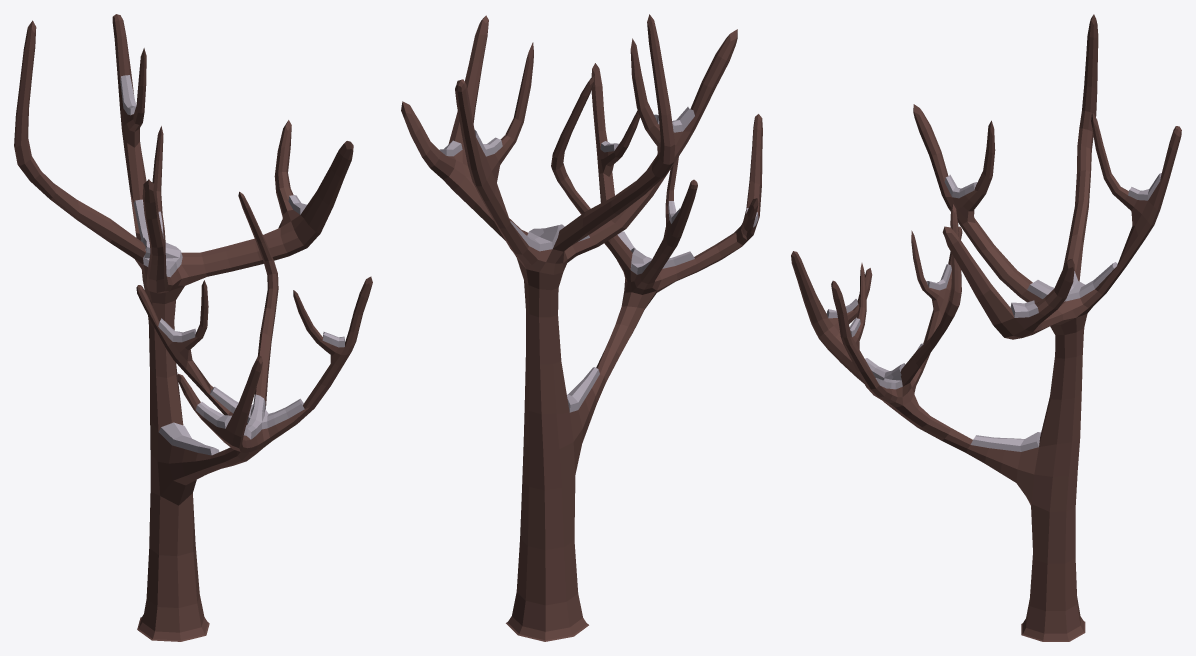
File: CommonTree_Dead_Snow_2.gltf
3 renders of one model, left to right at view 1: azimuth 30°, elevation 25°; view 2: azimuth 150°, elevation 25°; view 3: azimuth 270°, elevation 25°, orthographic. The views are drawn at different scales.
Visible parts, largest first — view 1: CommonTree_Dead_Snow_2; view 2: CommonTree_Dead_Snow_2; view 3: CommonTree_Dead_Snow_2.
Part boxes in pixels (x1,y1,x2,y2): CommonTree_Dead_Snow_2: (14,14,372,641); CommonTree_Dead_Snow_2: (401,14,762,641); CommonTree_Dead_Snow_2: (791,14,1181,641).
Size of the model in its own units: 1.33 by 2.96 by 1.86.
